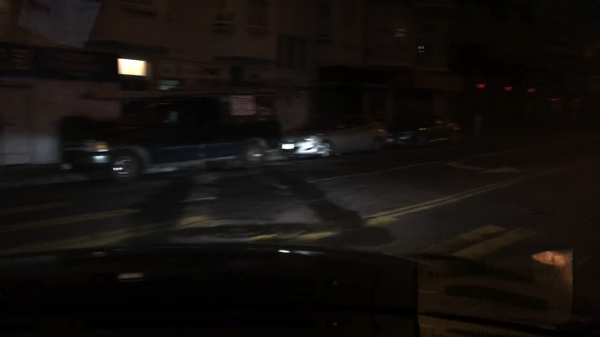car: (58, 92, 283, 183), (279, 109, 387, 159), (383, 113, 461, 149)
traffic light: (477, 83, 486, 91), (550, 96, 559, 103), (504, 85, 513, 91), (527, 87, 535, 93)
